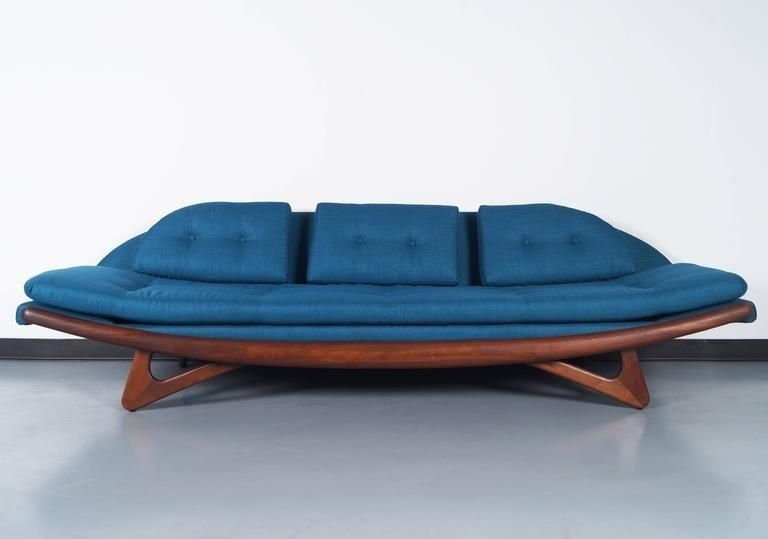3seatersofa: (17, 202, 754, 410)
backrest: (621, 231, 667, 269), (98, 234, 144, 269), (291, 212, 313, 283), (459, 212, 478, 284)
base: (22, 301, 751, 367)
leg: (123, 349, 241, 410), (531, 349, 648, 408)
pillow: (313, 204, 471, 284), (138, 202, 294, 282), (481, 204, 635, 284)
seat: (25, 264, 745, 340)
